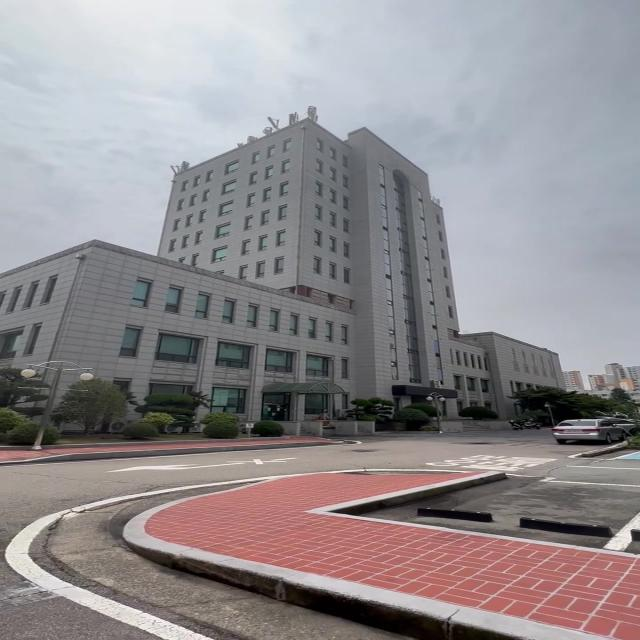building: (74, 110, 477, 376)
